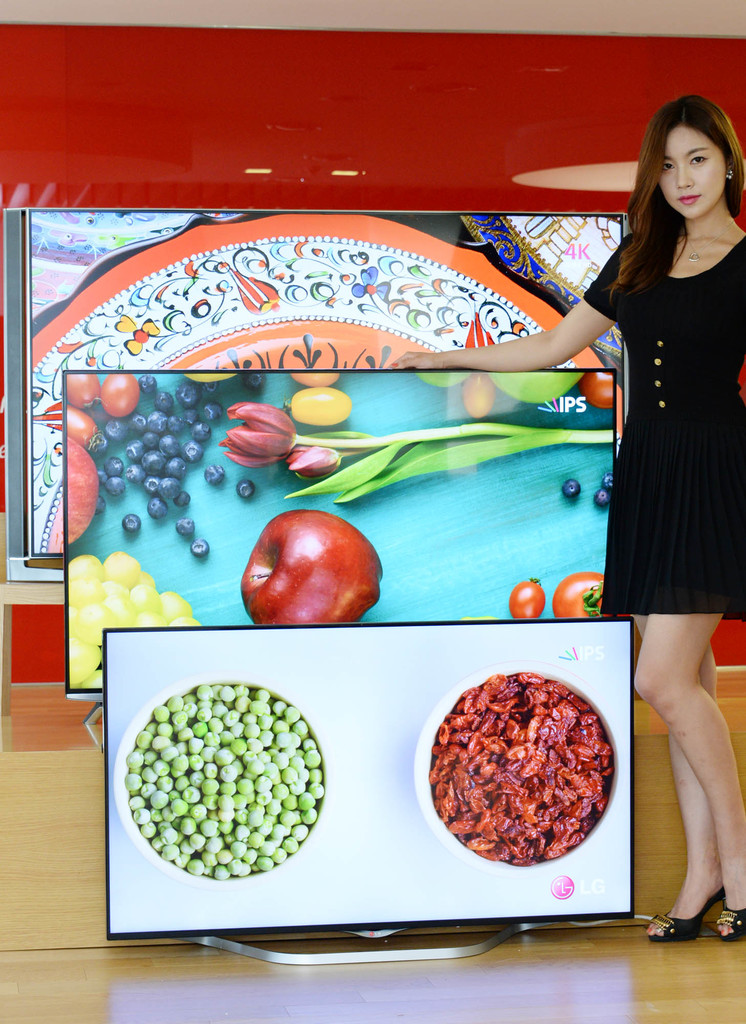Apple: (237, 511, 391, 635)
